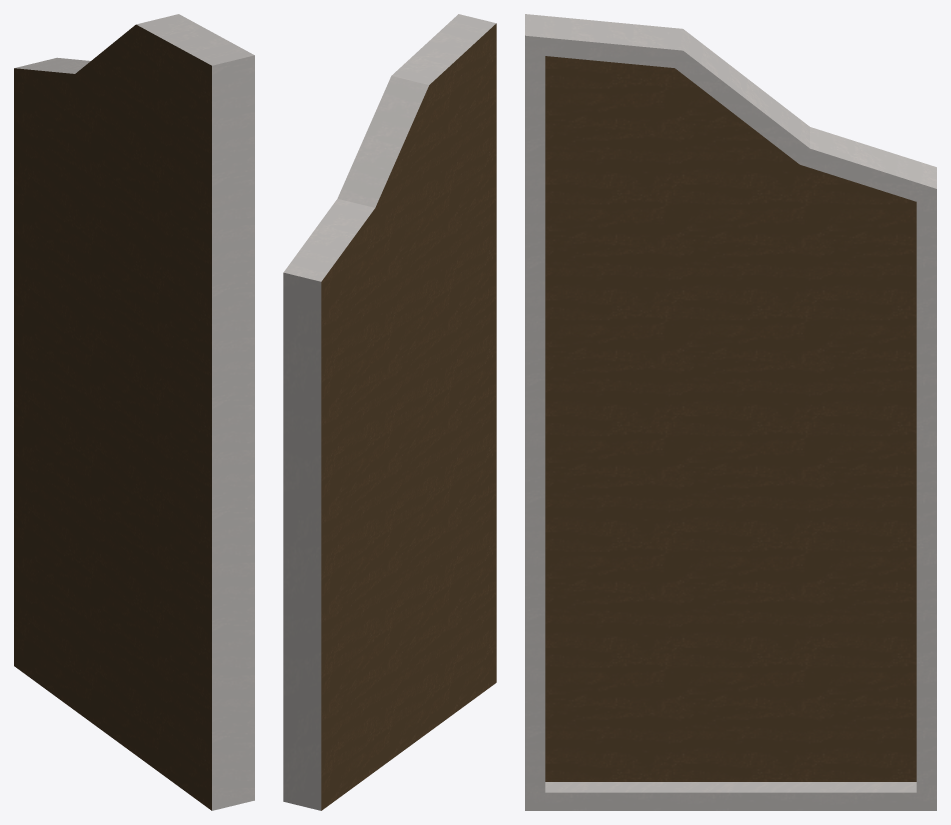
Rendered from SwingDoorRight.fbx.
The picture shows the model from 3 angles, left to right: view 1: azimuth 30°, elevation 25°; view 2: azimuth 150°, elevation 25°; view 3: azimuth 270°, elevation 25°; orthographic projection. The views are drawn at different scales.
Parts seen in each view (by area): view 1: SwingDoorRight; view 2: SwingDoorRight; view 3: SwingDoorRight.
Part boxes in pixels (x1,y1,x2,y2): SwingDoorRight: [14, 14, 254, 810]; SwingDoorRight: [283, 14, 496, 810]; SwingDoorRight: [525, 14, 936, 810].
Size of the model in its own units: 10.55 by 175 by 84.35.
